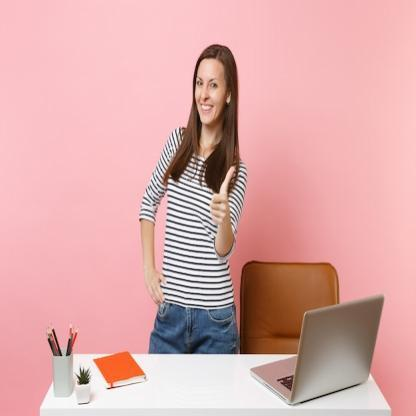thumb_up: (206, 166, 240, 228)
